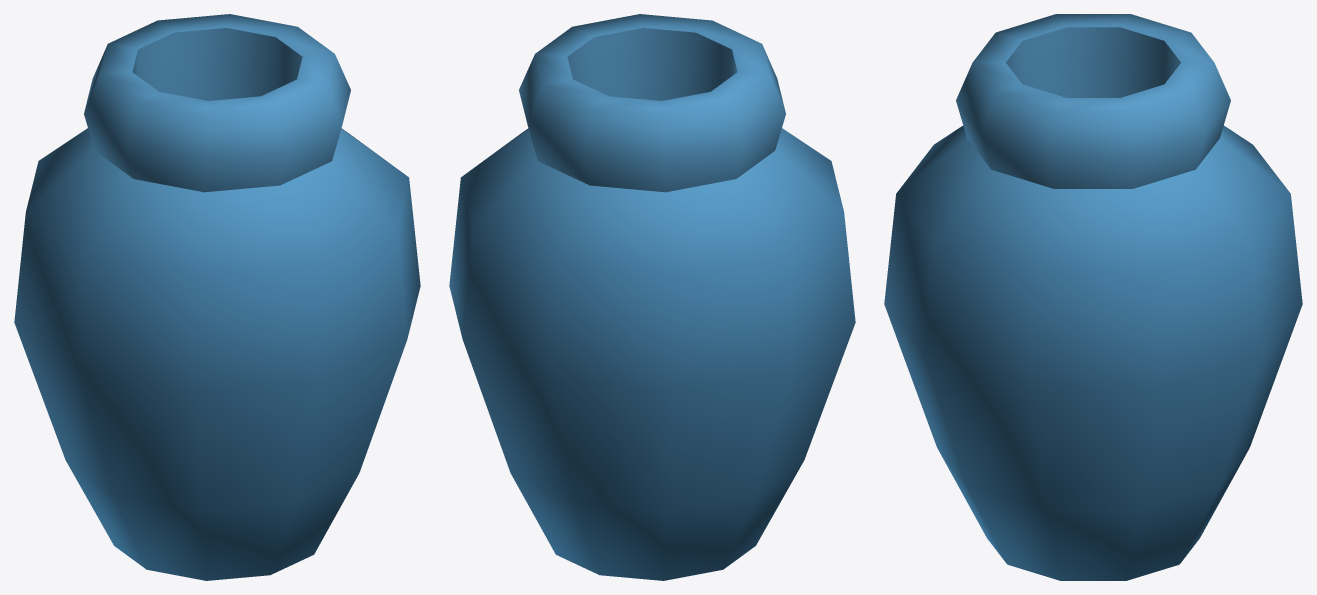
File: Bottle_C.fbx
The picture shows the model from 3 angles, left to right: view 1: azimuth 30°, elevation 25°; view 2: azimuth 150°, elevation 25°; view 3: azimuth 270°, elevation 25°; orthographic projection.
Visible parts, largest first — view 1: Bottle_C; view 2: Bottle_C; view 3: Bottle_C.
Boxes of the visible parts, <box> form: Bottle_C: <box>14,14,420,580</box>; Bottle_C: <box>449,14,855,580</box>; Bottle_C: <box>884,14,1302,580</box>.
Bounding box in the file's own units: 21.04 × 27.74 × 22.12.
